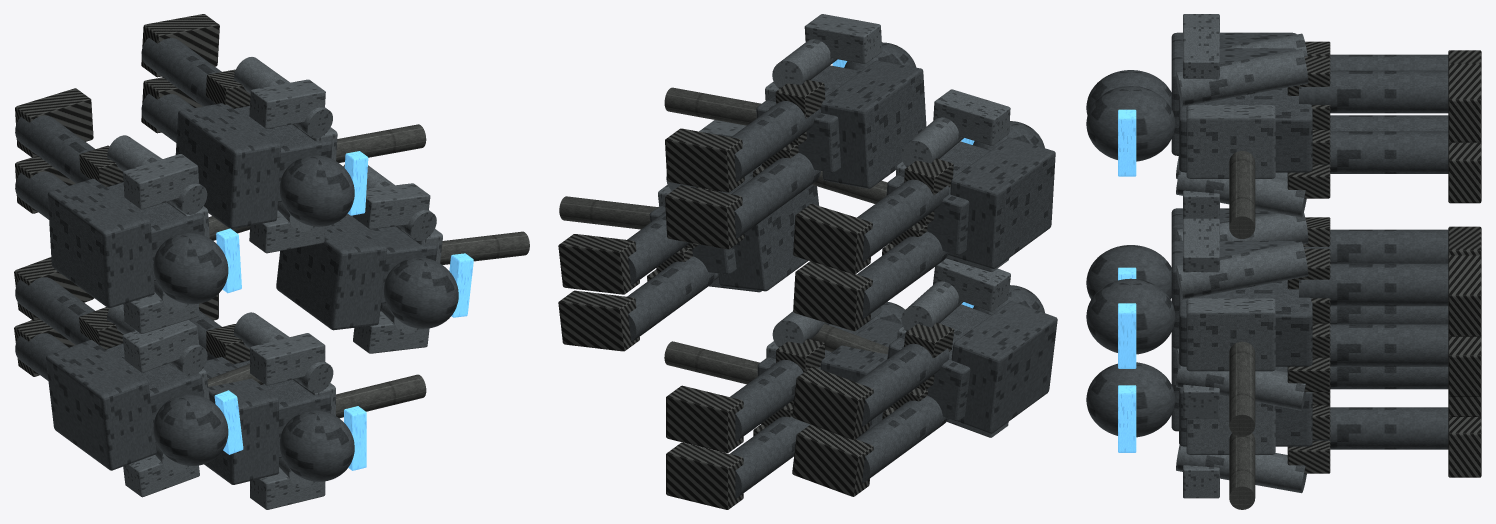
File: s-u01-specter-line-infantry-lod0.glb
3 views of the same model, side by side, from view 1: azimuth 30°, elevation 25°; view 2: azimuth 150°, elevation 25°; view 3: azimuth 270°, elevation 25° (orthographic). The views are drawn at different scales.
Parts seen in each view (by area): view 1: soldier_3_backpack, soldier_4_backpack, soldier_1_backpack, soldier_0_backpack, soldier_2_backpack, soldier_4_helmet, soldier_3_helmet, soldier_1_helmet, soldier_2_helmet, soldier_0_helmet, soldier_3_shoulder_1, soldier_1_leg_1 (+43 smaller); view 2: soldier_3_backpack, soldier_4_backpack, soldier_1_backpack, soldier_0_backpack, soldier_4_boot_1, soldier_3_boot_1, soldier_2_boot_-1, soldier_2_boot_1, soldier_3_boot_-1, soldier_4_boot_-1, soldier_1_boot_1, soldier_1_boot_-1 (+36 smaller); view 3: soldier_1_chest, soldier_0_chest, soldier_0_leg_1, soldier_1_leg_1, soldier_2_leg_-1, soldier_1_leg_-1, soldier_0_leg_-1, soldier_0_helmet, soldier_1_helmet, soldier_2_helmet, soldier_0_torso, soldier_1_arm_1 (+52 smaller).
Boxes of the visible parts, x1,y1,x2,y2 form: soldier_3_backpack: [47, 178, 154, 308]; soldier_4_backpack: [45, 340, 156, 470]; soldier_1_backpack: [175, 103, 280, 228]; soldier_0_backpack: [276, 216, 386, 330]; soldier_2_backpack: [203, 357, 278, 484]; soldier_4_helmet: [153, 394, 228, 465]; soldier_3_helmet: [153, 232, 228, 304]; soldier_1_helmet: [279, 155, 354, 226]; soldier_2_helmet: [279, 410, 354, 481]; soldier_0_helmet: [383, 257, 458, 328]; soldier_3_shoulder_1: [123, 154, 198, 209]; soldier_1_leg_1: [141, 38, 249, 108]; soldier_3_backpack: [948, 137, 1055, 268]; soldier_4_backpack: [951, 301, 1057, 433]; soldier_1_backpack: [820, 60, 926, 188]; soldier_0_backpack: [718, 176, 819, 291]; soldier_4_boot_1: [792, 366, 873, 439]; soldier_3_boot_1: [793, 204, 872, 274]; soldier_2_boot_-1: [666, 442, 743, 509]; soldier_2_boot_1: [666, 385, 743, 452]; soldier_3_boot_-1: [793, 261, 872, 331]; soldier_4_boot_-1: [792, 424, 873, 496]; soldier_1_boot_1: [665, 128, 744, 192]; soldier_1_boot_-1: [665, 185, 744, 249]; soldier_1_chest: [1186, 105, 1275, 178]; soldier_0_chest: [1186, 298, 1275, 371]; soldier_0_leg_1: [1299, 263, 1448, 306]; soldier_1_leg_1: [1299, 70, 1448, 113]; soldier_2_leg_-1: [1312, 407, 1448, 449]; soldier_1_leg_-1: [1313, 131, 1448, 173]; soldier_0_leg_-1: [1330, 324, 1448, 366]; soldier_0_helmet: [1086, 278, 1175, 354]; soldier_1_helmet: [1086, 86, 1175, 161]; soldier_2_helmet: [1086, 362, 1175, 437]; soldier_0_torso: [1179, 280, 1312, 366]; soldier_1_arm_1: [1176, 49, 1308, 106].
Size of what is drawn, in the model's own units: 3.06 by 2.63 by 2.13.
5 materials, 5 textured.
